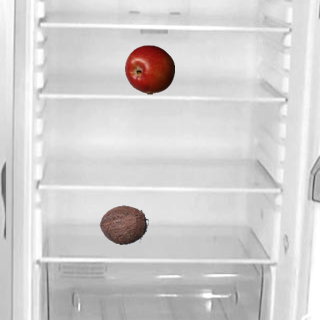Apple Braeburn: (124, 44, 174, 94)
Cocos: (98, 199, 148, 249)
